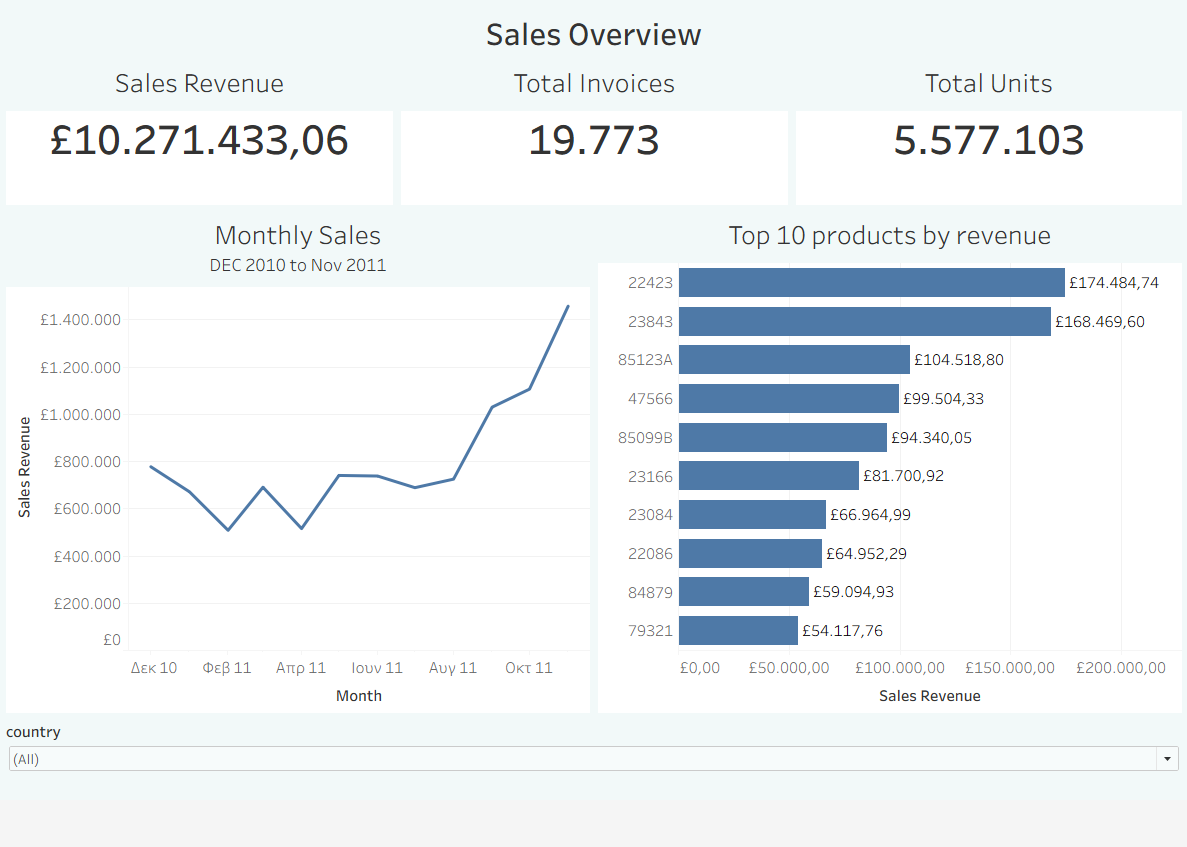

Layout of this report page (visuals, bound fields, positions):
{"tool":"tableau","page":{"name":"Sales Overview","canvas":[1200,800],"ordinal":1},"visuals":[{"type":"title","box":[8,8,1184,49]},{"type":"worksheet","title":"Sales Revenue","mark":"Automatic","box":[8,57,395,152]},{"type":"worksheet","title":"Total Invoices","mark":"Automatic","box":[403,57,395,152]},{"type":"worksheet","title":"Total Units","mark":"Automatic","box":[798,57,394,152]},{"type":"worksheet","title":"Monthly Sales","mark":"Line","rows":["Calculation_1383240734928896"],"cols":["invoice_date"],"box":[8,208.7,592,508.1]},{"type":"worksheet","title":"Top 10 products","mark":"Automatic","rows":["stock_code"],"cols":["Calculation_1383240734928896"],"box":[600,208.7,592,508.1]},{"type":"filter","title":"Monthly Sales","param":"[federated.1q9kwy30ay94ae135as651y16dmq].[none:country:nk]","box":[8,716.7,1184,61]}]}

Visuals, with their boxes on the page's 1200x800 design canvas (x1, y1, x2, y2). These are canvas units, not pixel positions in the 1187x847 screenshot, which may show the page scaled, cropped or inside an application window:
title: <box>8,8,1192,57</box>
"Sales Revenue" worksheet: <box>8,57,403,209</box>
"Total Invoices" worksheet: <box>403,57,798,209</box>
"Total Units" worksheet: <box>798,57,1192,209</box>
"Monthly Sales" worksheet (Line marks): <box>8,209,600,717</box>
"Top 10 products" worksheet: <box>600,209,1192,717</box>
"Monthly Sales" filter: <box>8,717,1192,778</box>
